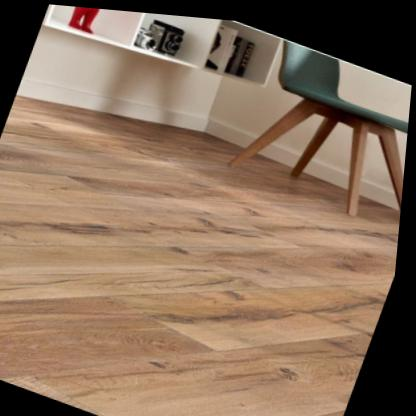Wooden floor: (0, 94, 404, 416)
